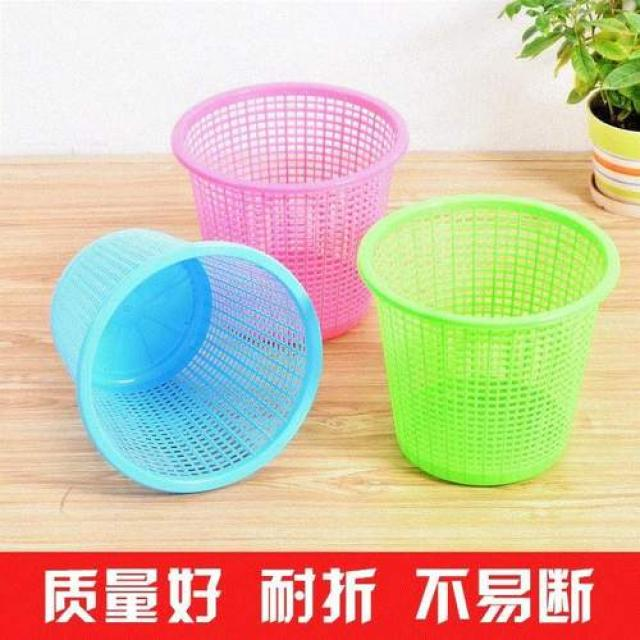dustbin: (356, 188, 626, 494), (44, 223, 332, 502), (167, 73, 414, 345)
